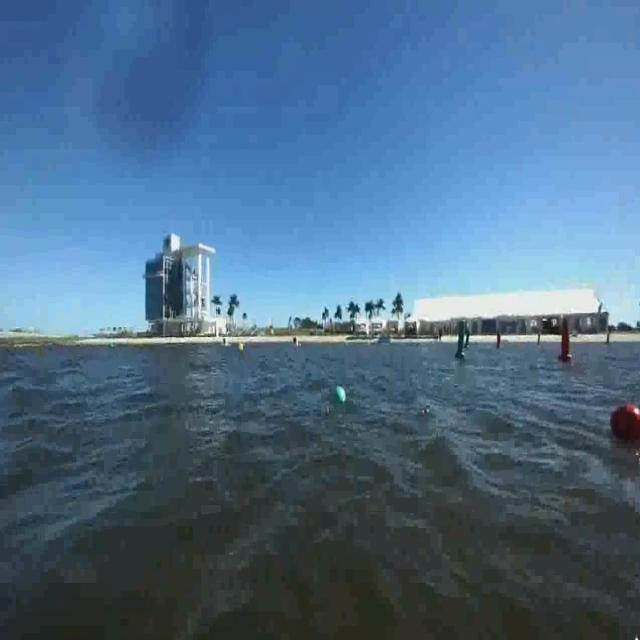green-buoy: (338, 387, 346, 403)
green-column-buoy: (455, 322, 469, 362)
red-buoy: (610, 403, 640, 445)
red-column-buoy: (558, 319, 575, 363)
yellow-buoy: (239, 342, 246, 354)
